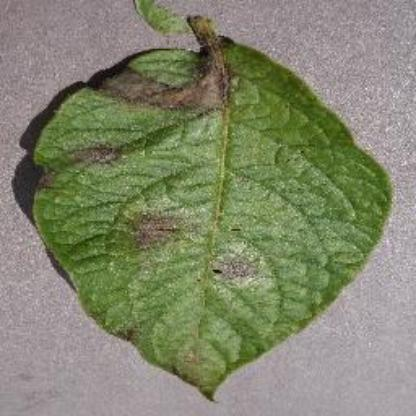Late-Blight: (29, 13, 395, 399)
